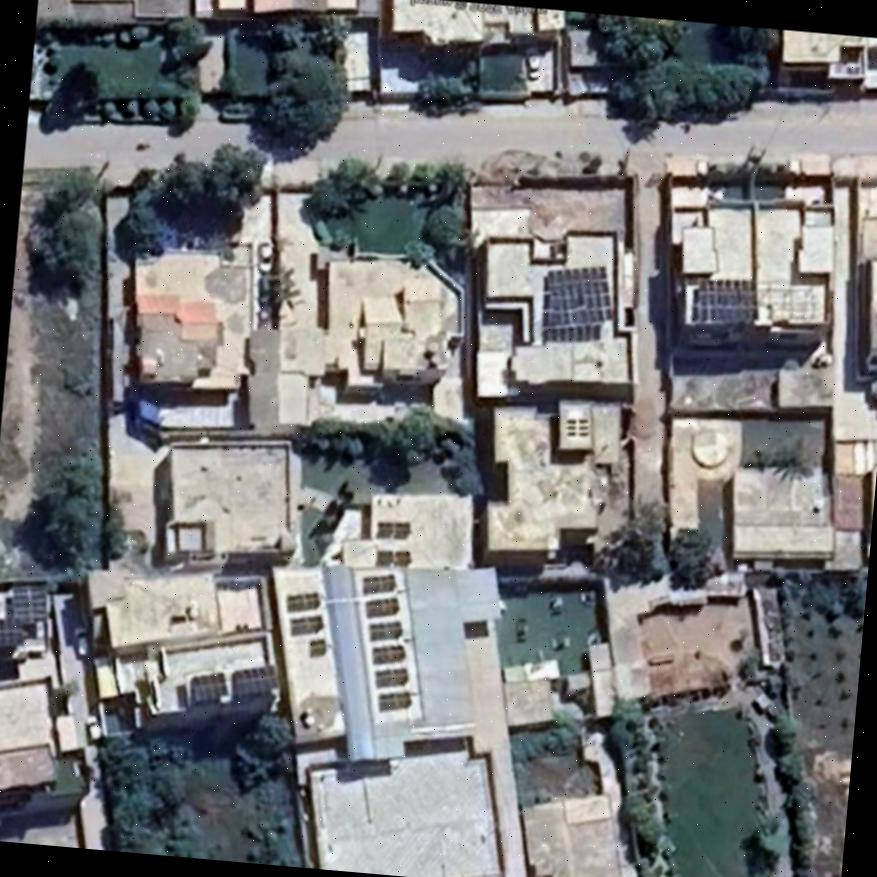Solarpanel: (544, 268, 616, 327), (694, 281, 757, 322), (232, 663, 277, 693), (10, 583, 44, 621), (189, 669, 227, 698), (0, 617, 23, 646), (374, 670, 405, 691), (282, 595, 317, 612), (361, 575, 395, 592), (379, 689, 406, 710), (365, 599, 396, 617), (371, 645, 402, 663), (289, 615, 318, 634), (370, 622, 400, 640)
